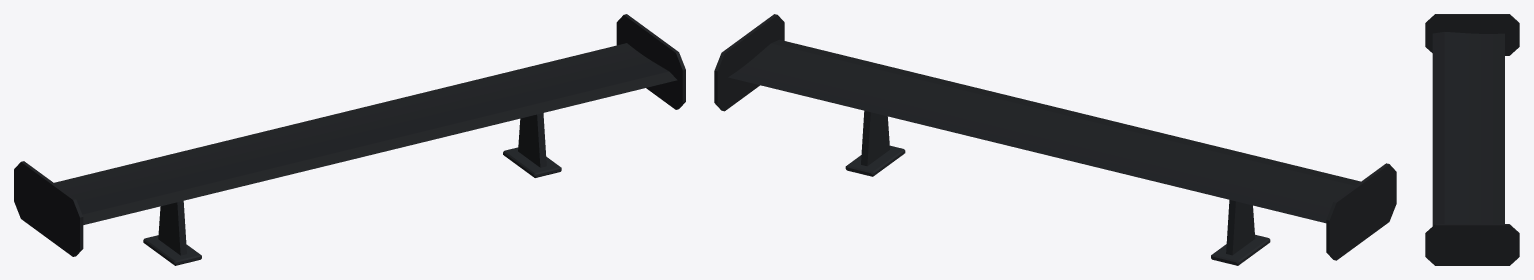
File: vortex_r.glb
3 views of the same model, side by side, from view 1: azimuth 30°, elevation 25°; view 2: azimuth 150°, elevation 25°; view 3: azimuth 270°, elevation 25° (orthographic). The views are drawn at different scales.
Visible parts, largest first — view 1: wing_element, model; view 2: wing_element, model; view 3: wing_element.
Boxes of the visible parts, left/top/right/bottom form: wing_element: left=14, top=14, right=685, bottom=256; model: left=143, top=113, right=561, bottom=265; wing_element: left=714, top=14, right=1396, bottom=260; model: left=845, top=110, right=1270, bottom=265; wing_element: left=1425, top=14, right=1519, bottom=265.
Bounding box in the file's own units: 1.52 × 0.2364 × 0.2859.
2 materials, 1 textured.
